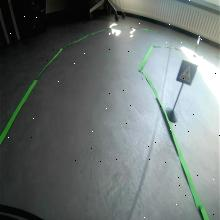crosswalk: (175, 60, 198, 86)
